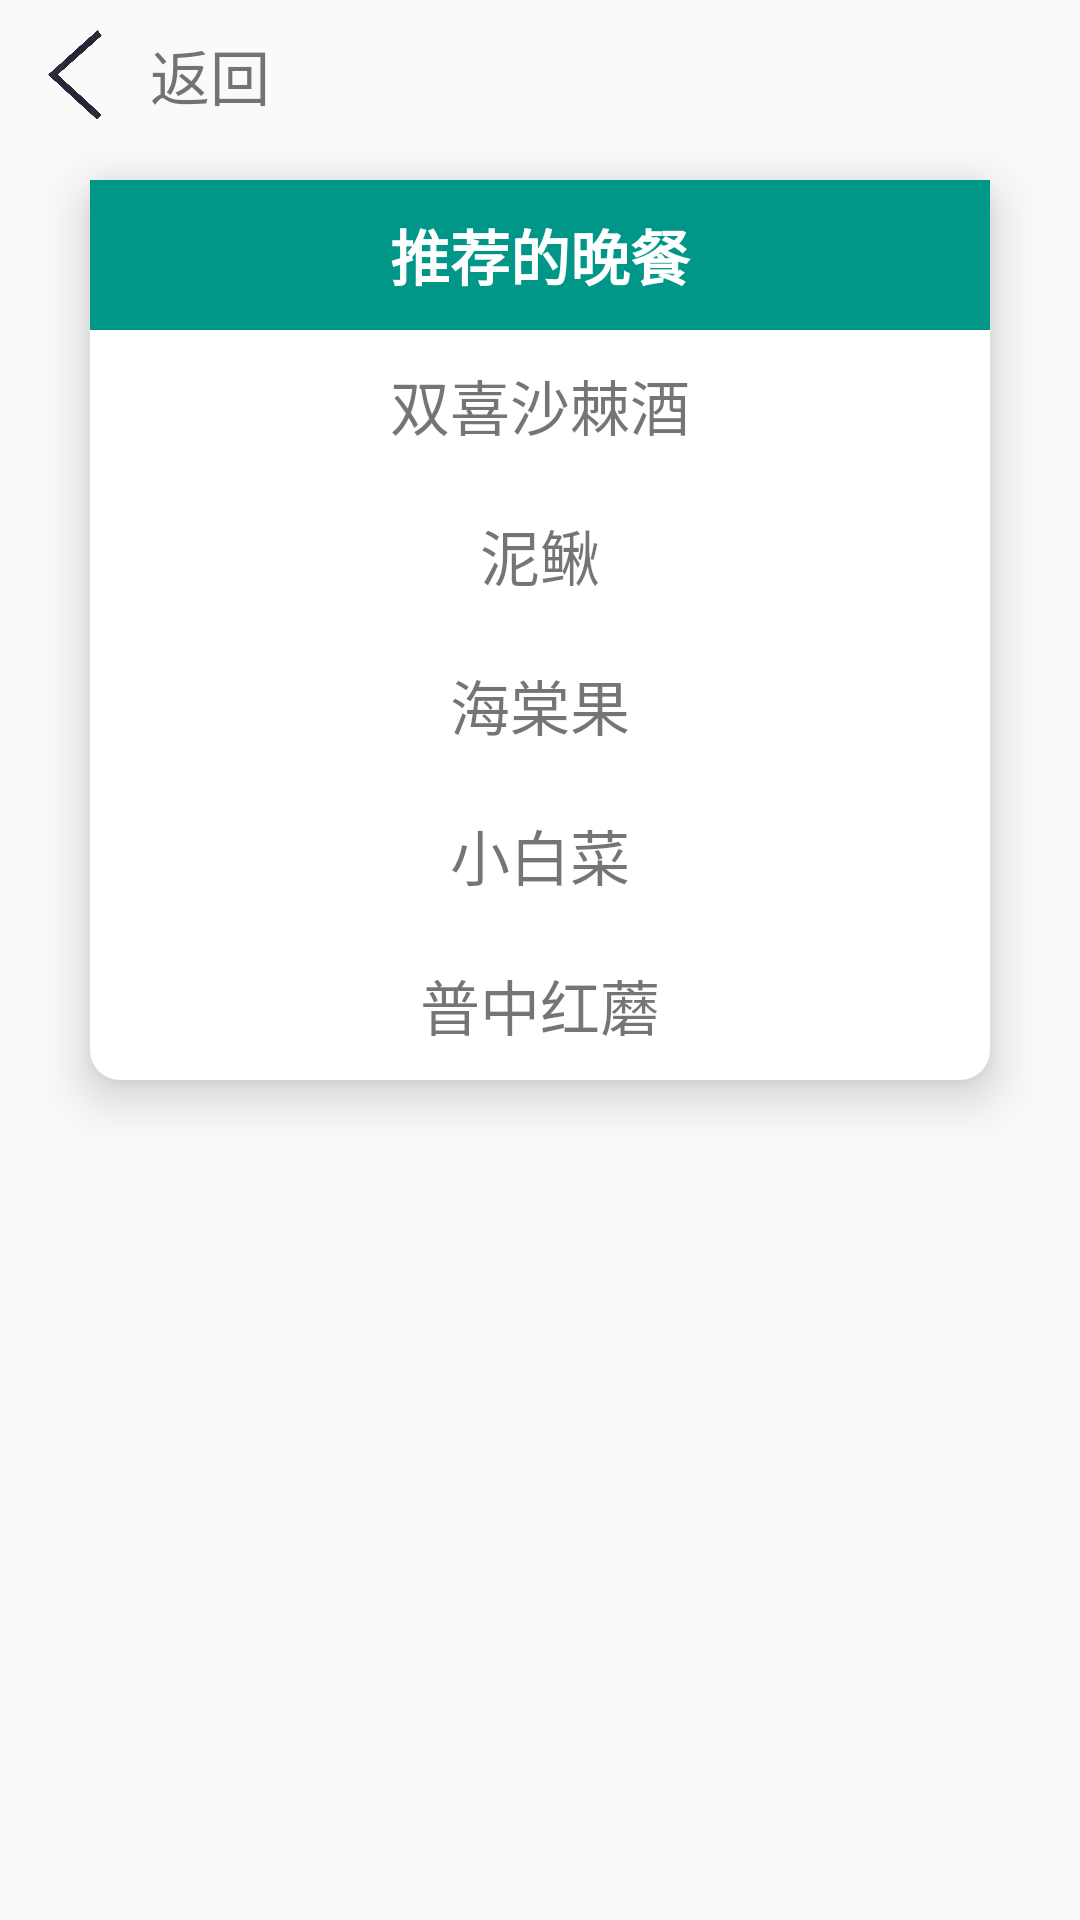

Where to tap for icons on this 1080px×1920px app screen, as point (x, y):
arrow left: point (75, 74)
